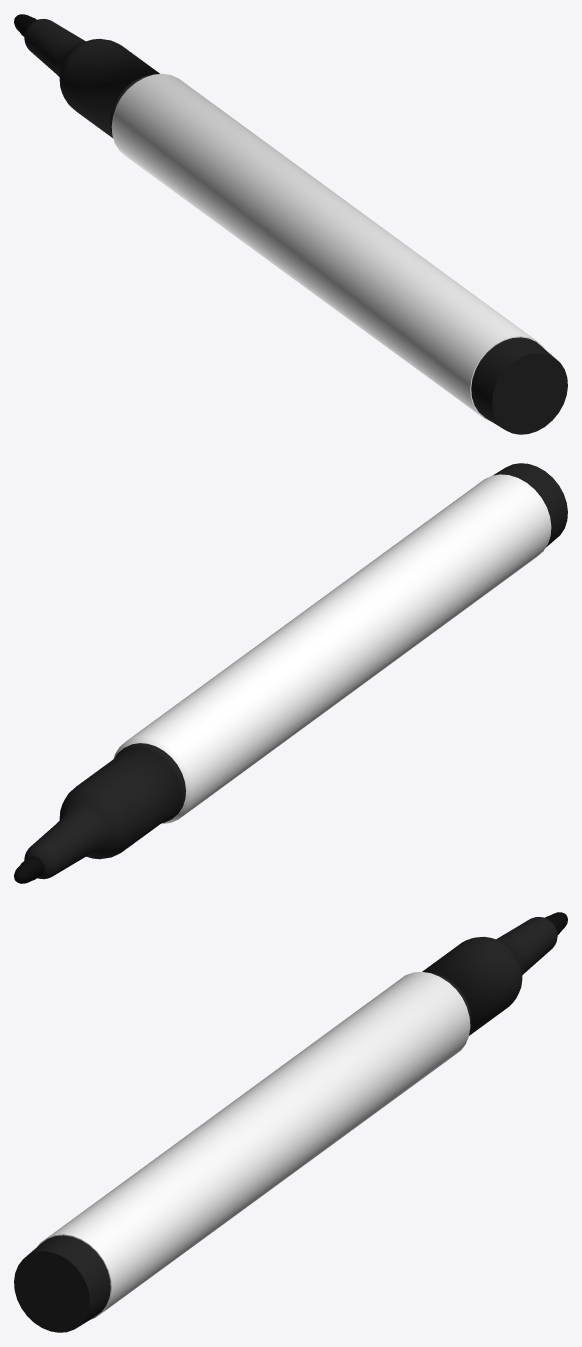
File: huabi.fbx
3 renders of one model, top to bottom at view 1: azimuth 30°, elevation 25°; view 2: azimuth 150°, elevation 25°; view 3: azimuth 330°, elevation 25°, orthographic.
Parts seen in each view (by area): view 1: polySurface32; view 2: polySurface32; view 3: polySurface32.
Boxes of the visible parts, bbox=[...] form: polySurface32: bbox=[14, 14, 567, 434]; polySurface32: bbox=[14, 463, 567, 883]; polySurface32: bbox=[14, 912, 567, 1332].
Bounding box in the file's own units: 1.16 × 1.16 × 12.62.
